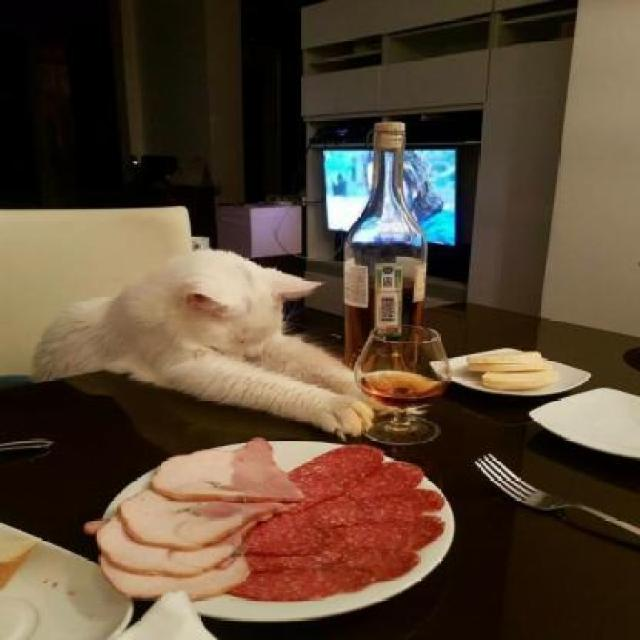cat: (26, 245, 331, 403)
